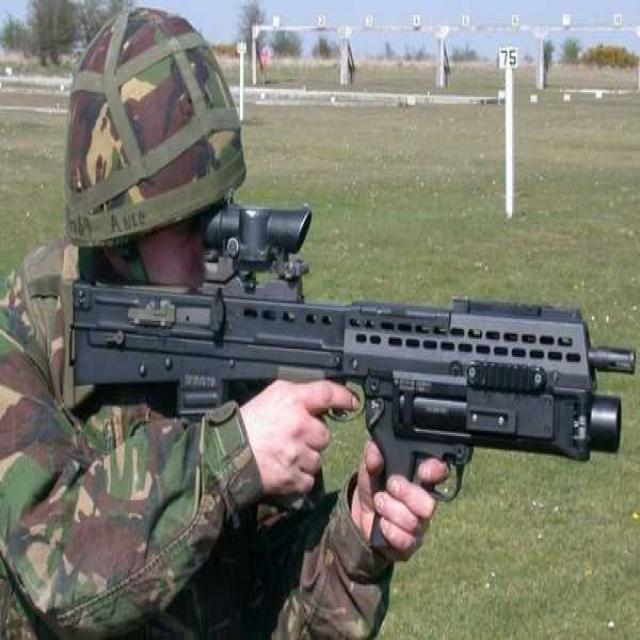RifleTel: (54, 194, 639, 530)
